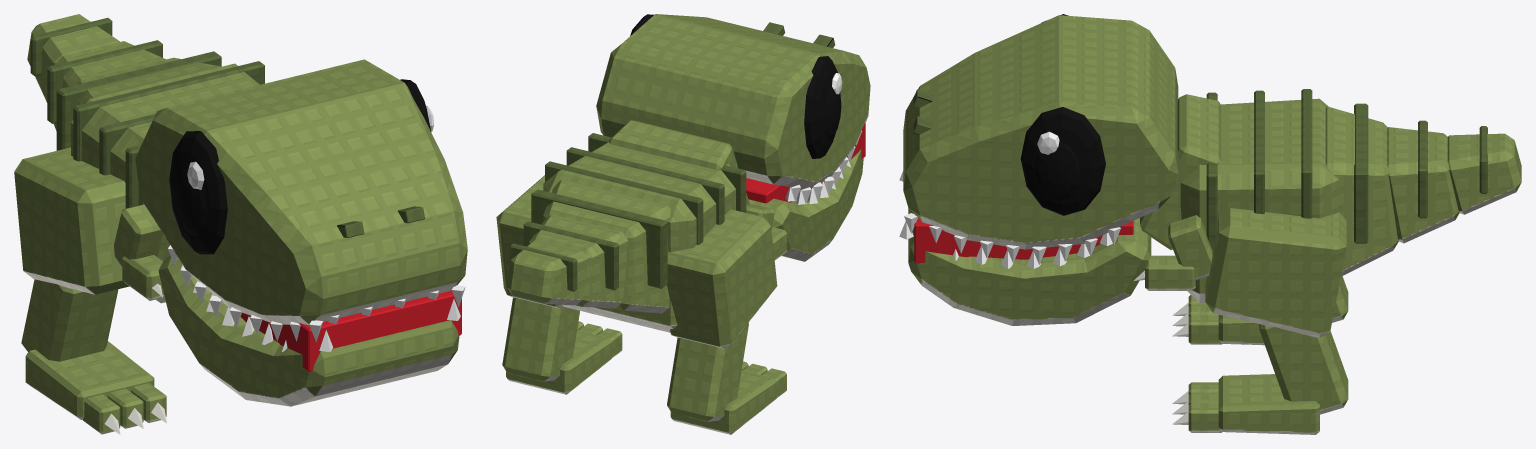
File: bebe_18_T_Rex.glb
3 renders of one model, left to right at view 1: azimuth 30°, elevation 25°; view 2: azimuth 150°, elevation 25°; view 3: azimuth 270°, elevation 25°, orthographic. The views are drawn at different scales.
Parts seen in each view (by area): view 1: bebe_18_T_Rex; view 2: bebe_18_T_Rex; view 3: bebe_18_T_Rex.
Boxes of the visible parts, <box> form: bebe_18_T_Rex: <box>14,14,467,434</box>; bebe_18_T_Rex: <box>496,14,870,434</box>; bebe_18_T_Rex: <box>899,14,1521,434</box>.
Size of the model in its own units: 2.79 by 3.36 by 5.99.
1 material, 1 textured.
